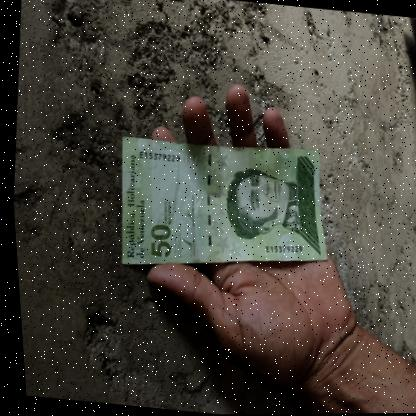vef_front: (106, 129, 336, 285)
